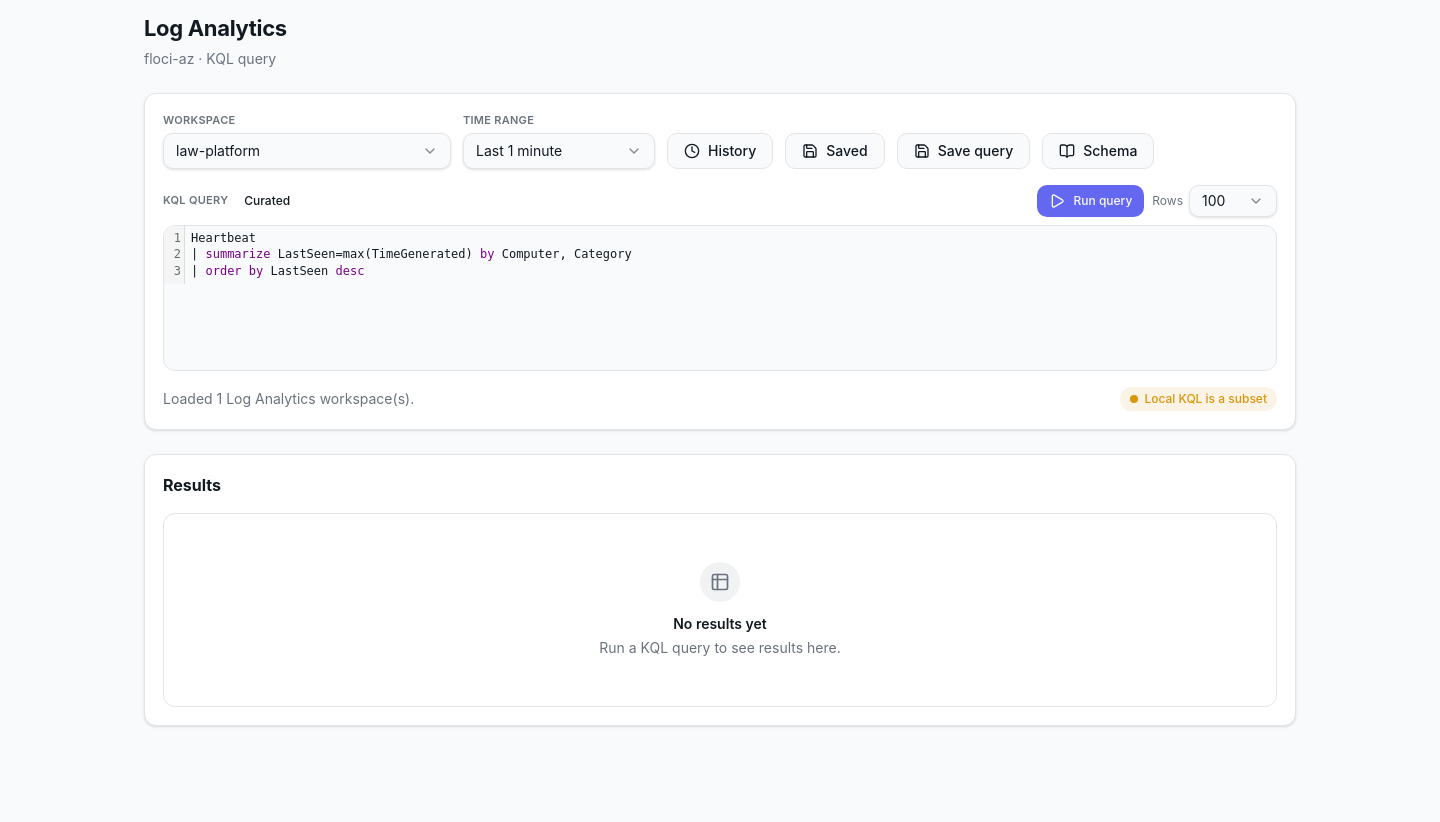
Test: LogAnalyticsView › lists history entries in the history menu
Click the button "History": (720, 150) [667,132,773,168]
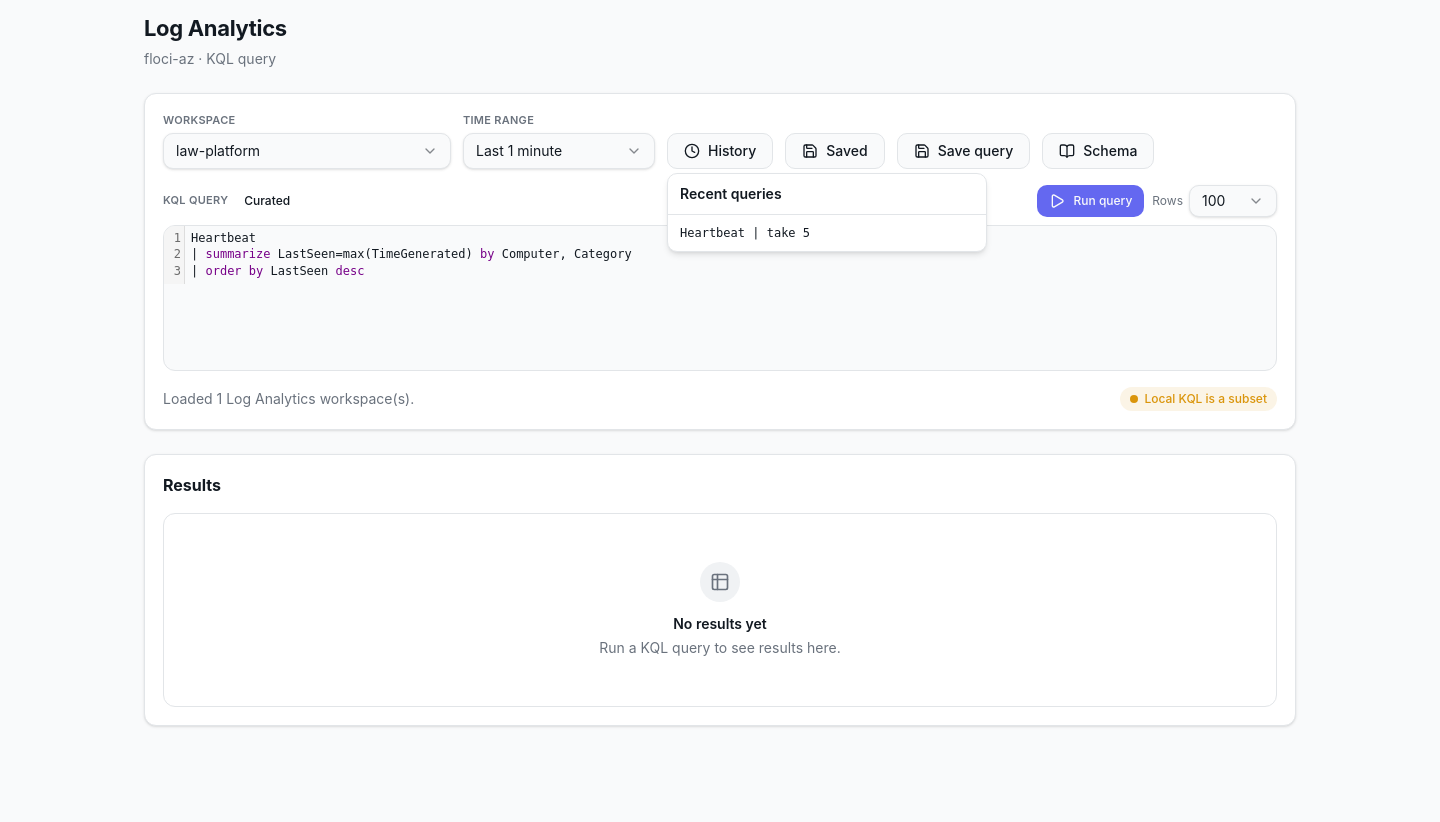
Expected: the text "Heartbeat | take 5" is shown, [680,225,810,241]
